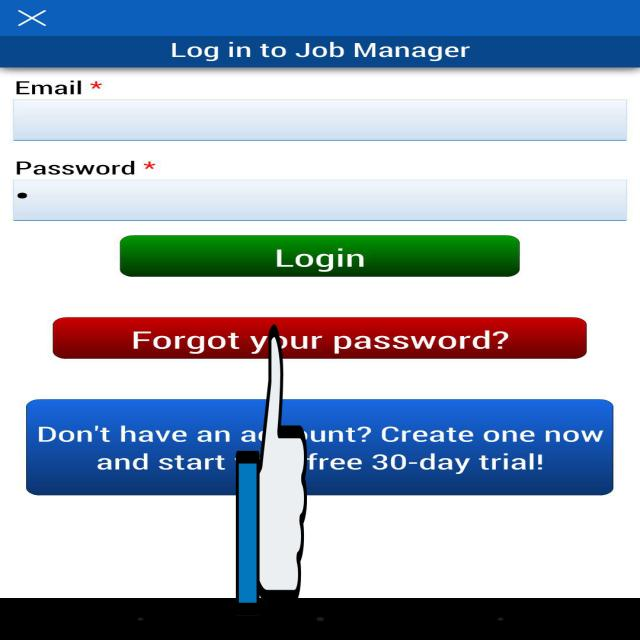privacy zuckering: (236, 318, 307, 622)
